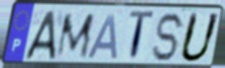A: (23, 10, 58, 62), (85, 13, 119, 61)
M: (54, 12, 96, 61)
S: (151, 11, 187, 64)
T: (128, 10, 156, 64)
U: (177, 11, 222, 65)
